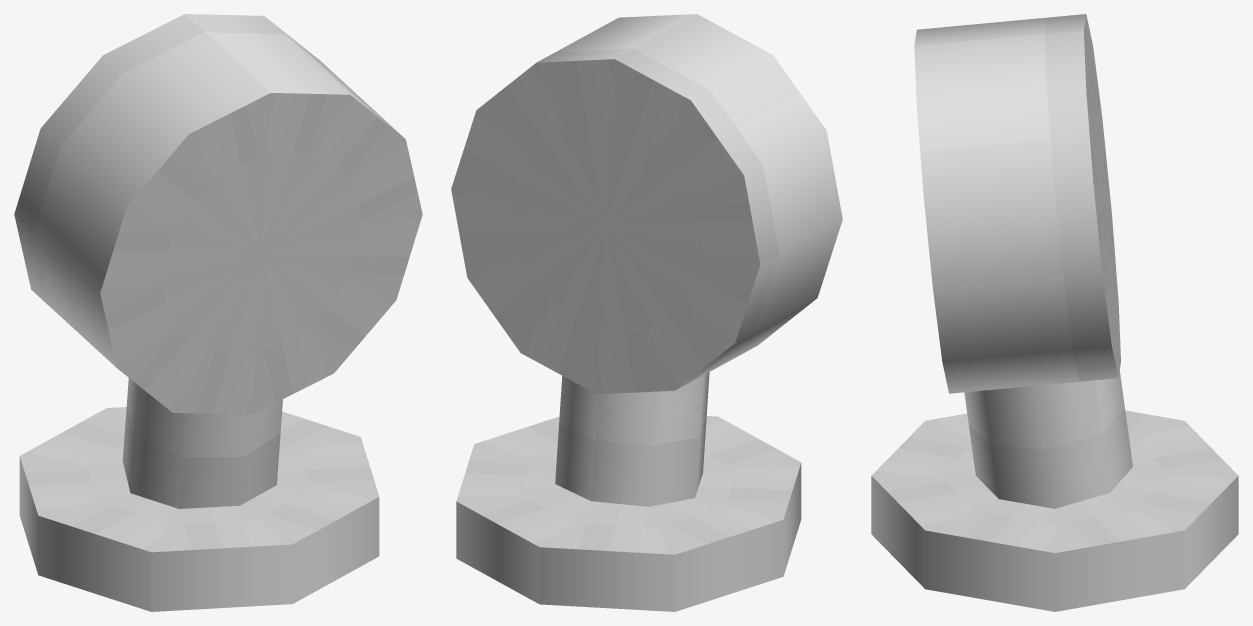
The model's file is trusssignalarm_stub_27.obj.
3 renders of one model, left to right at view 1: azimuth 30°, elevation 25°; view 2: azimuth 150°, elevation 25°; view 3: azimuth 270°, elevation 25°, orthographic. The views are drawn at different scales.
Visible parts, largest first — view 1: trusssignalarm_stub_27; view 2: trusssignalarm_stub_27; view 3: trusssignalarm_stub_27.
Part boxes in pixels (box(x1,y1,x2,y2)): trusssignalarm_stub_27: box(14, 14, 422, 611); trusssignalarm_stub_27: box(451, 14, 842, 611); trusssignalarm_stub_27: box(871, 14, 1238, 611).
Size of the model in its own units: 0.35 by 0.5302 by 0.35.
